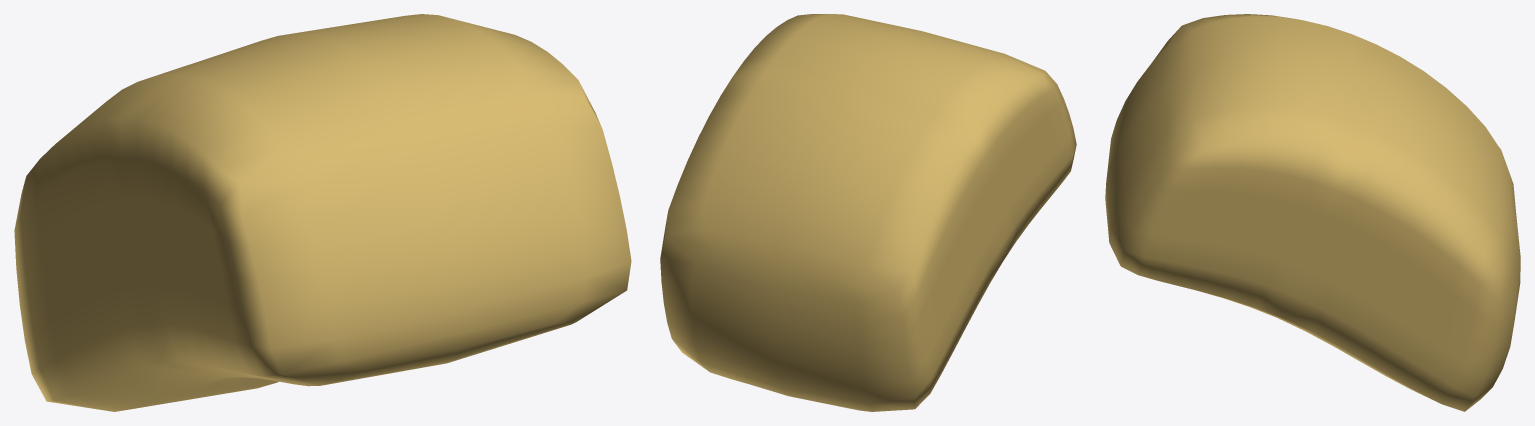
The picture shows the model from 3 angles, left to right: view 1: azimuth 30°, elevation 25°; view 2: azimuth 150°, elevation 25°; view 3: azimuth 270°, elevation 25°; orthographic projection. The views are drawn at different scales.
Visible parts, largest first — view 1: 左侧睫状小带; view 2: 左侧睫状小带; view 3: 左侧睫状小带.
Part boxes in pixels (left/top/right/bottom): 左侧睫状小带: left=14, top=14, right=631, bottom=411; 左侧睫状小带: left=660, top=14, right=1076, bottom=411; 左侧睫状小带: left=1105, top=14, right=1520, bottom=411.
Size of the model in its own units: 0.000295 by 0.000319 by 0.000386.
